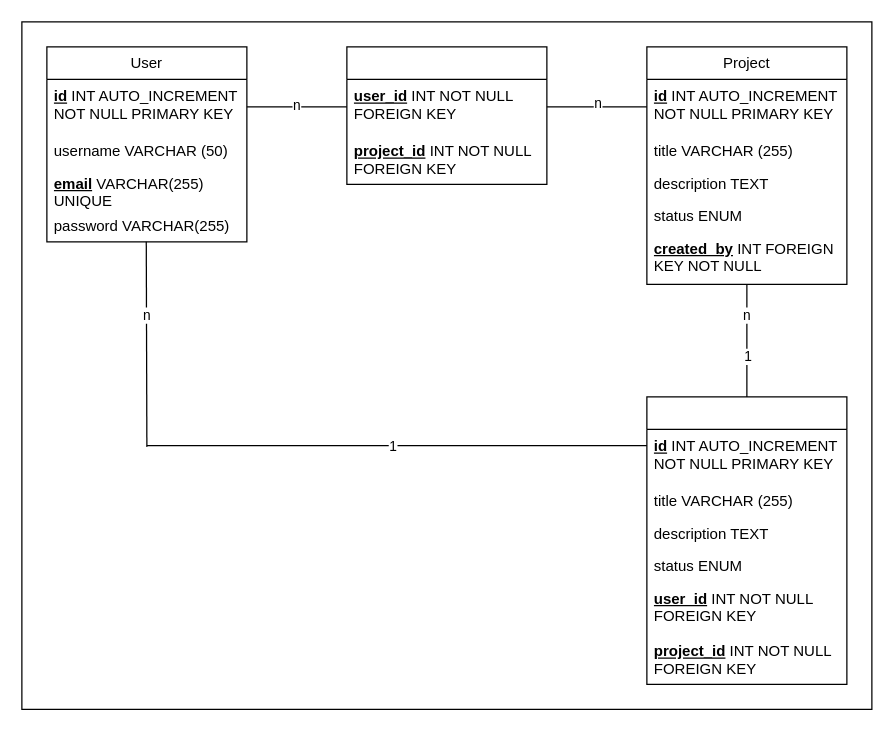
Some shapes in this 894 by 731 pixel diagram are drawn without their labels. The box of each missing label's shape, as (x1, y1, x2, y2) in pixels:
Task: (646, 396, 847, 684)
User Project: (346, 46, 547, 184)
